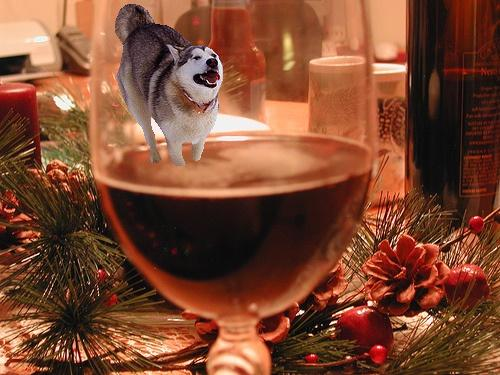tampered: (116, 5, 223, 166)
